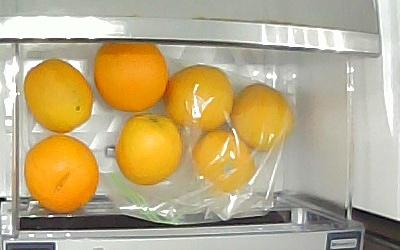orange: (25, 135, 100, 216), (23, 59, 93, 133), (96, 41, 167, 110), (118, 114, 182, 185)
orange_vinyl: (166, 64, 233, 129), (232, 82, 294, 152), (192, 129, 257, 192)
